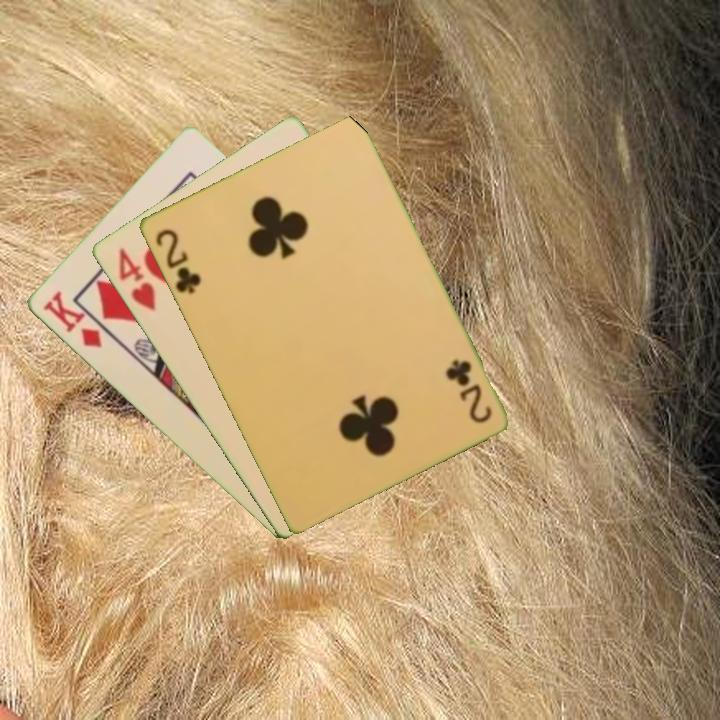2c: (151, 225, 204, 297), (443, 355, 494, 426)
4h: (114, 244, 158, 314)
Kd: (39, 287, 105, 351)
